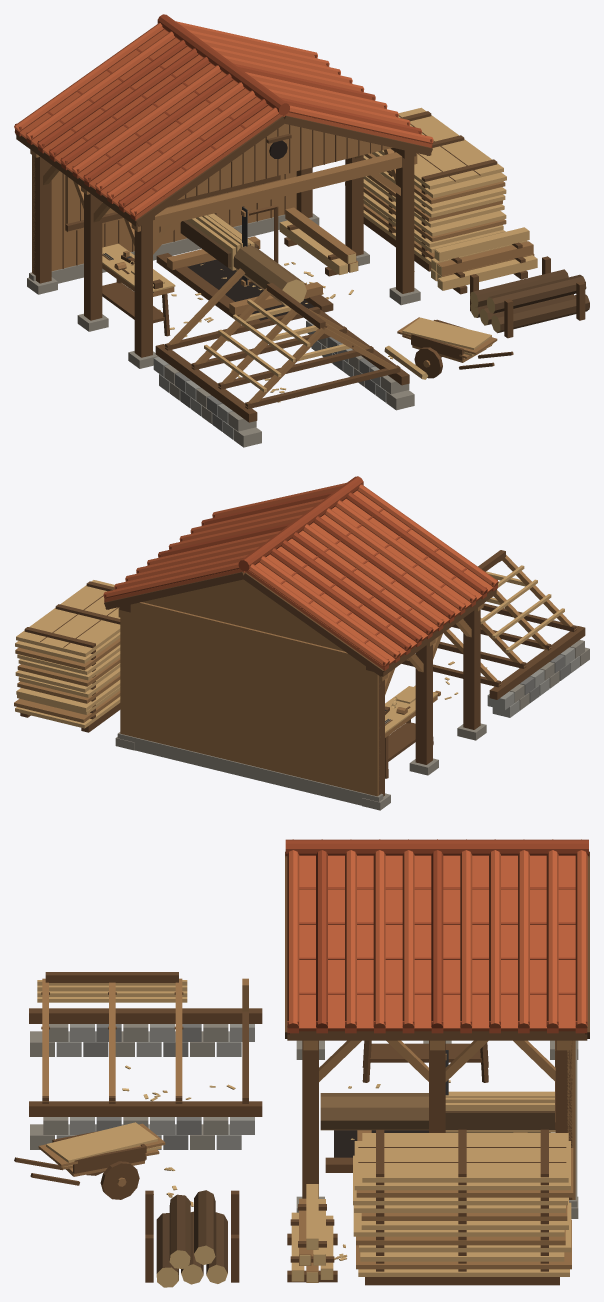
The model's file is Zimmerei.fbx.
3 views of the same model, one above another, from view 1: azimuth 30°, elevation 25°; view 2: azimuth 150°, elevation 25°; view 3: azimuth 270°, elevation 25° (orthographic). The views are drawn at different scales.
Parts seen in each view (by area): view 1: Zimmerei_0; view 2: Zimmerei_0; view 3: Zimmerei_0.
Boxes of the visible parts, x1,y1,x2,y2 form: Zimmerei_0: (14, 14, 589, 447); Zimmerei_0: (14, 476, 589, 810); Zimmerei_0: (14, 839, 589, 1287).
Bounding box in the file's own units: 3.54 × 1.95 × 3.46.
